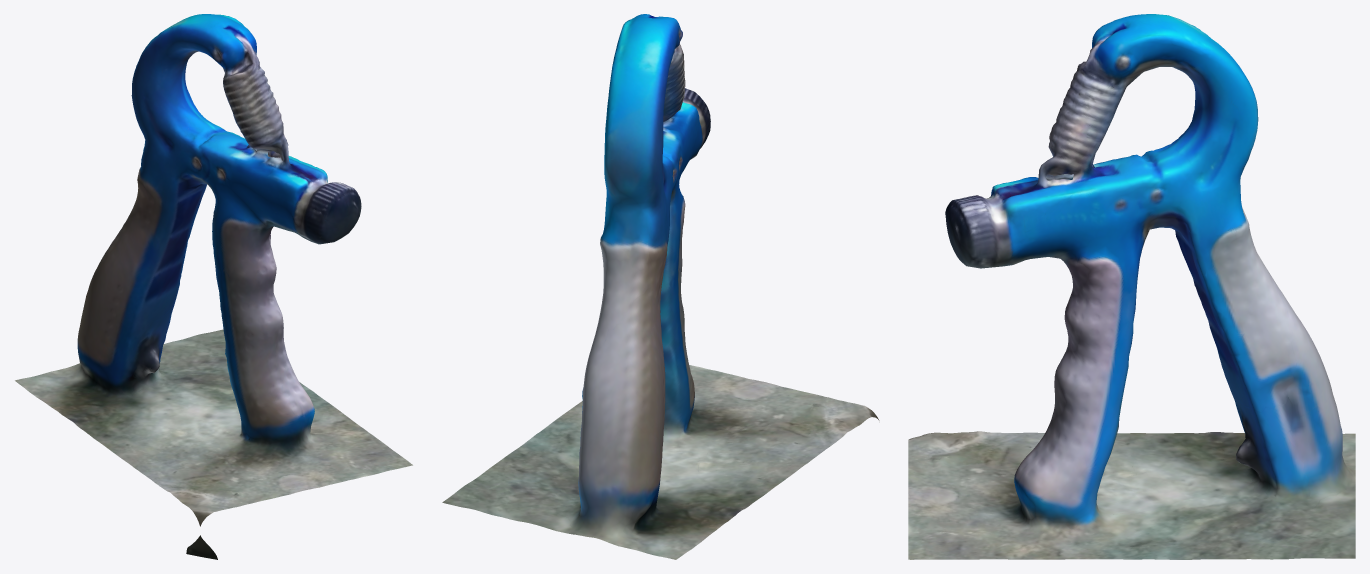
Rendered from handgripper.glb.
3 renders of one model, left to right at view 1: azimuth 30°, elevation 25°; view 2: azimuth 150°, elevation 25°; view 3: azimuth 270°, elevation 25°, orthographic. The views are drawn at different scales.
Visible parts, largest first — view 1: Node1; view 2: Node1; view 3: Node1.
Part boxes in pixels (left/top/right/bottom): Node1: left=15, top=14, right=412, bottom=559; Node1: left=442, top=14, right=879, bottom=559; Node1: left=908, top=14, right=1355, bottom=559.
Size of the model in its own units: 0.3007 by 0.6012 by 0.4537.
1 material, 1 textured.
